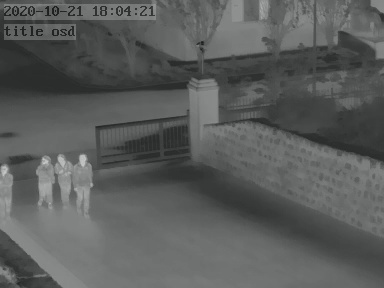person: (73, 149, 95, 219), (58, 150, 78, 210), (36, 152, 56, 208), (1, 162, 17, 219)
